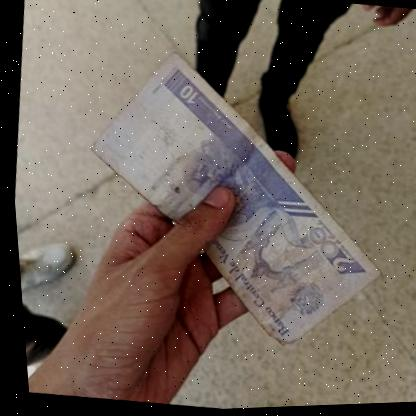ten-back-vef: (60, 38, 406, 364)
